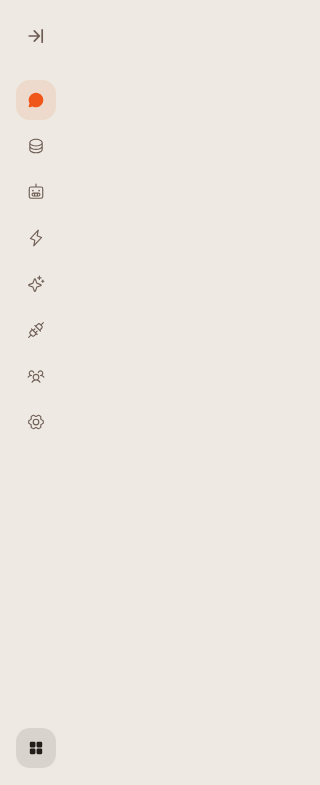
Test: DashboardNav › updates and cleans the dashboard nav offset
The width and height of the screenshot is (320, 785).
Click the button named "Expand navigation": click(36, 36) [16,16,56,56]
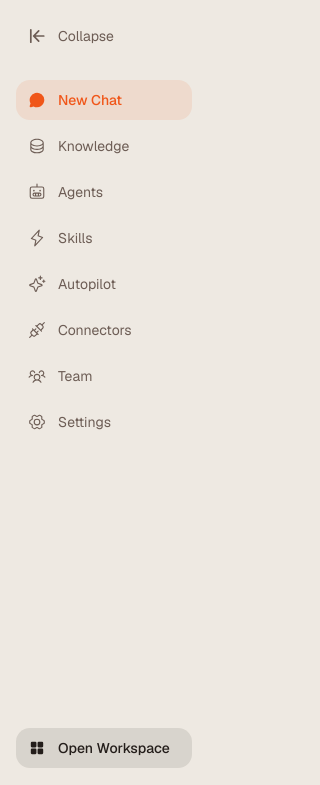
Check: the button with aria-label "Collapse navigation" is shown, box [16,16,192,56]
